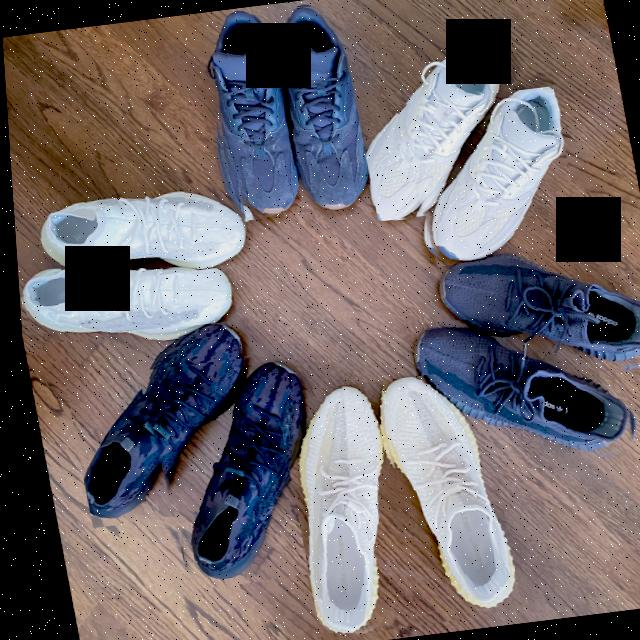shoe: (131, 350, 339, 591), (52, 318, 278, 528), (401, 300, 638, 484), (268, 379, 422, 640), (362, 368, 515, 626), (415, 225, 640, 399), (393, 85, 582, 268), (26, 162, 253, 288), (346, 42, 503, 220), (13, 242, 237, 363), (261, 0, 380, 220), (190, 4, 302, 223)
